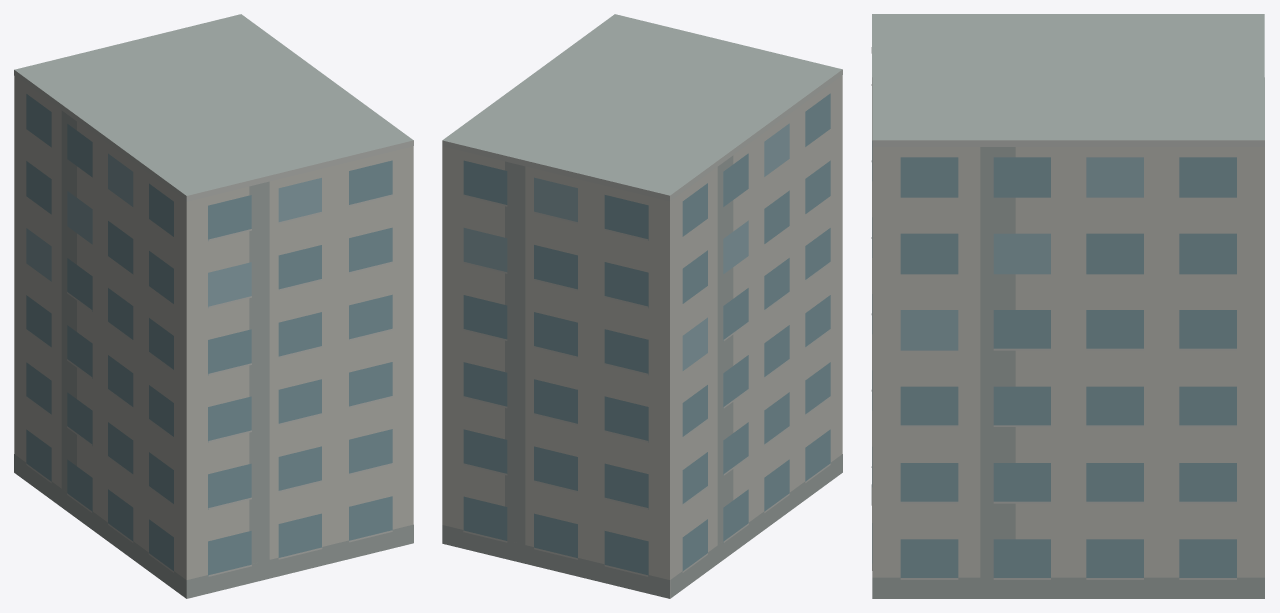
File: survey-upis-32620638.glb
3 views of the same model, side by side, from view 1: azimuth 30°, elevation 25°; view 2: azimuth 150°, elevation 25°; view 3: azimuth 270°, elevation 25° (orthographic). The views are drawn at different scales.
Visible parts, largest first — view 1: survey-upis-32620638.tmp; view 2: survey-upis-32620638.tmp; view 3: survey-upis-32620638.tmp.
Boxes of the visible parts, bbox=[...] form: survey-upis-32620638.tmp: bbox=[14, 14, 413, 598]; survey-upis-32620638.tmp: bbox=[442, 14, 842, 598]; survey-upis-32620638.tmp: bbox=[871, 14, 1264, 598].
Size of the model in its own units: 10.01 by 16.9 by 13.16.
